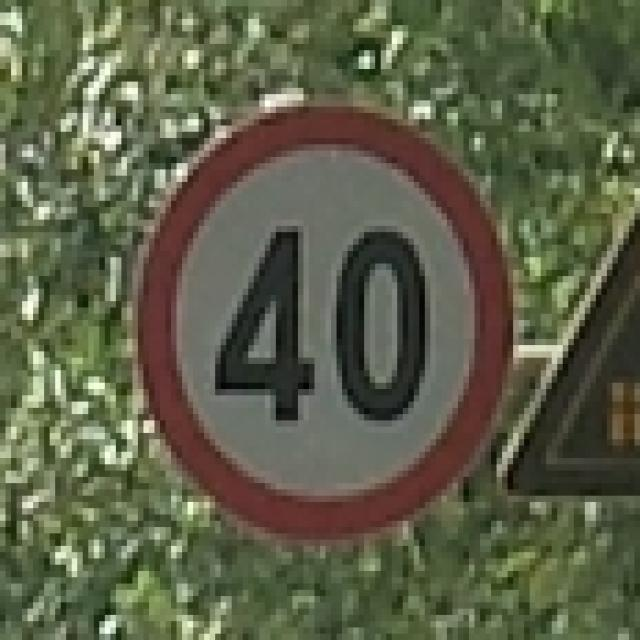Speed: (135, 108, 511, 530)
